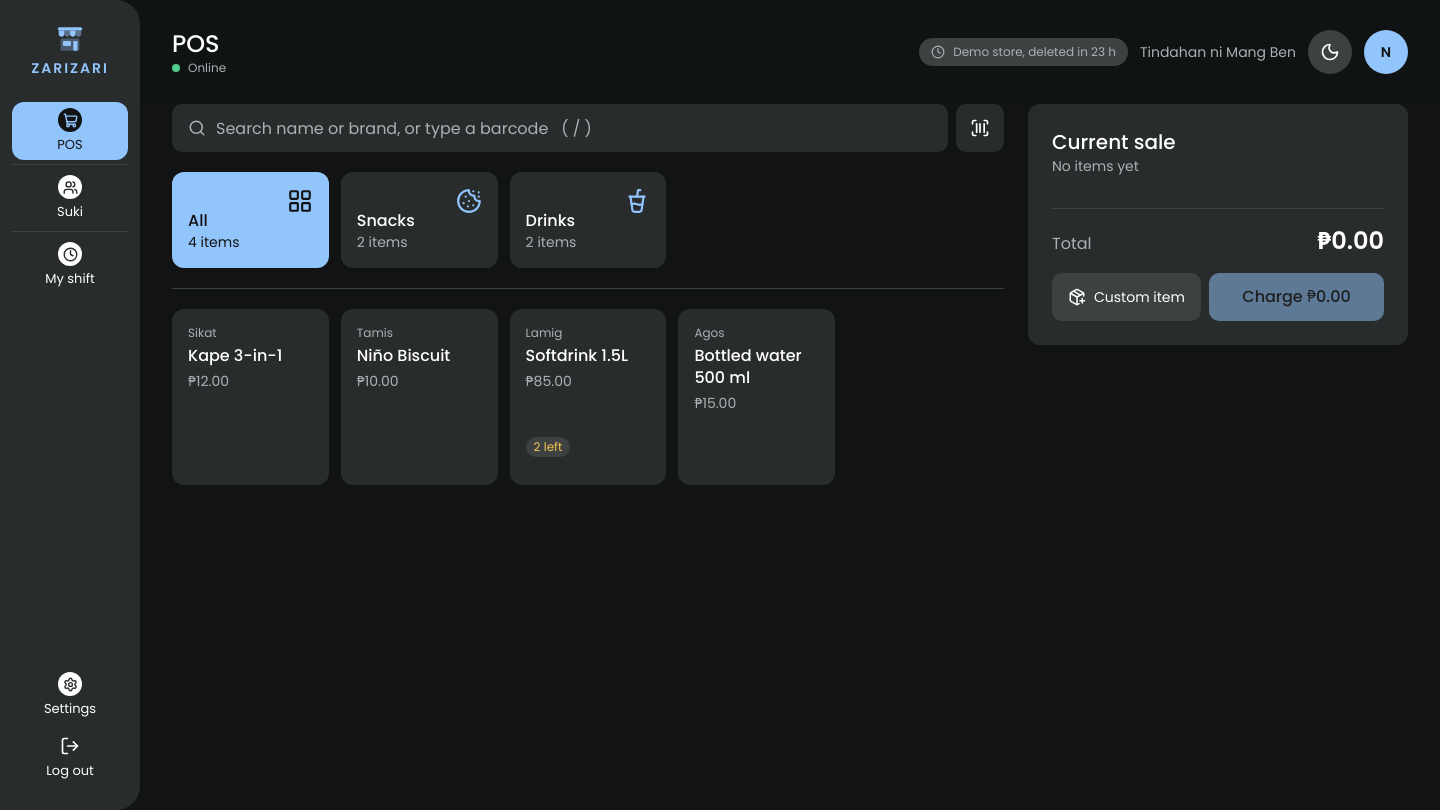
it: POS screen (spec 10) › warns when a line goes above the recorded stock (spec 6.3)
Check: the button named "Add Kape 3-in-1" is shown, box [184,321,317,417]
Click the button named "Add Softdrink 1.5L" at (588, 369), box [522,321,654,417]
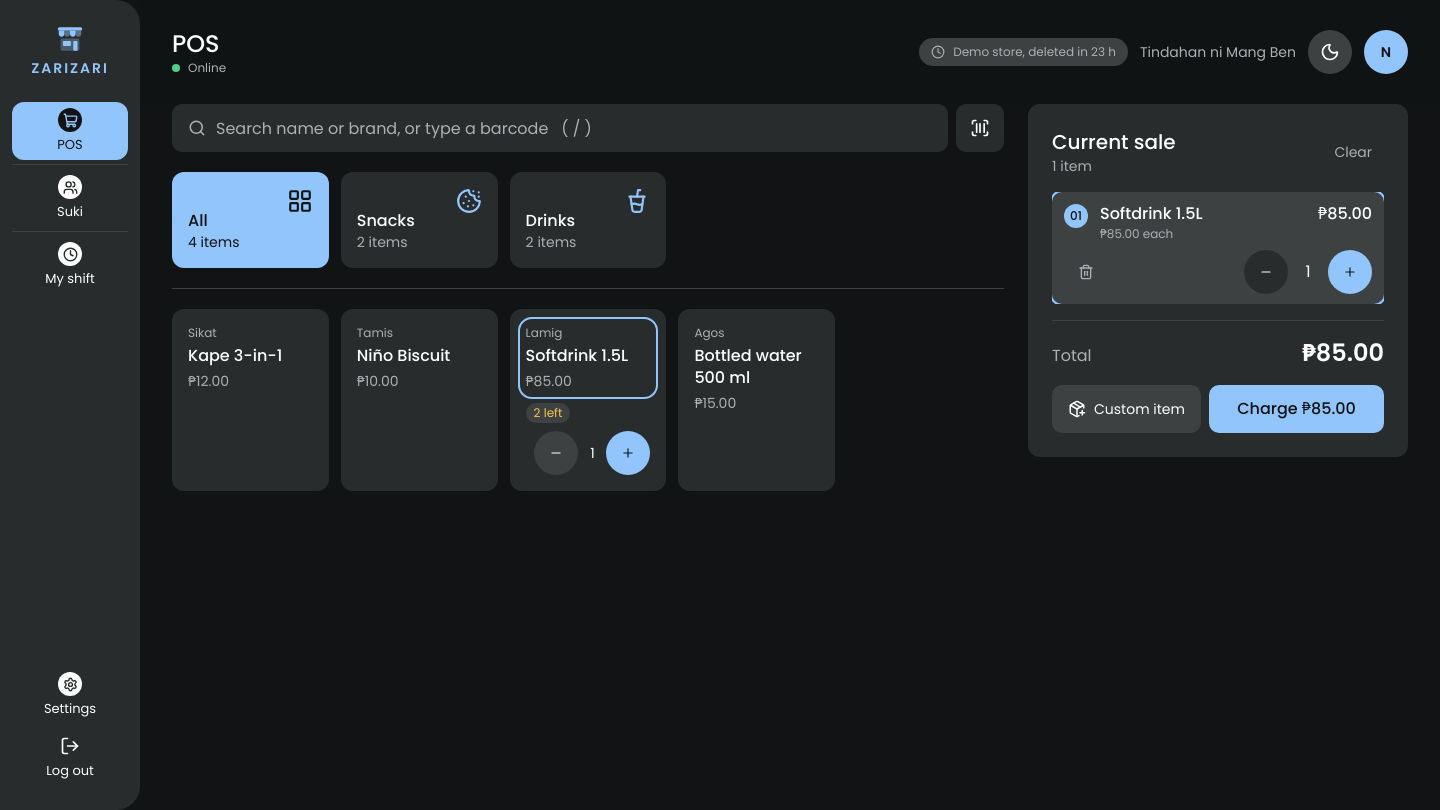
Click the button named "Add Softdrink 1.5L" at (588, 358), box [522,321,654,395]
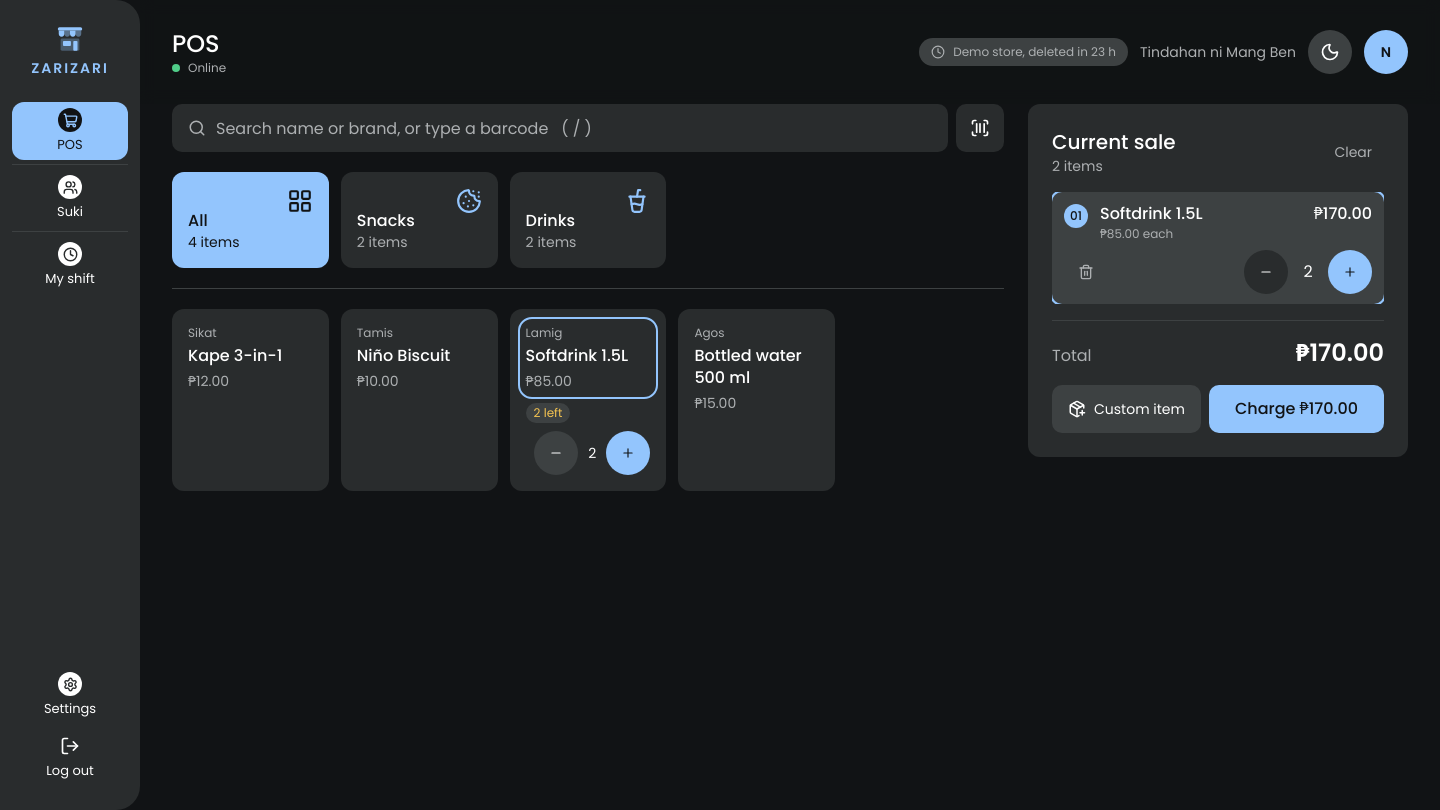
Click the button named "Add Softdrink 1.5L" at (588, 358), box [522,321,654,395]
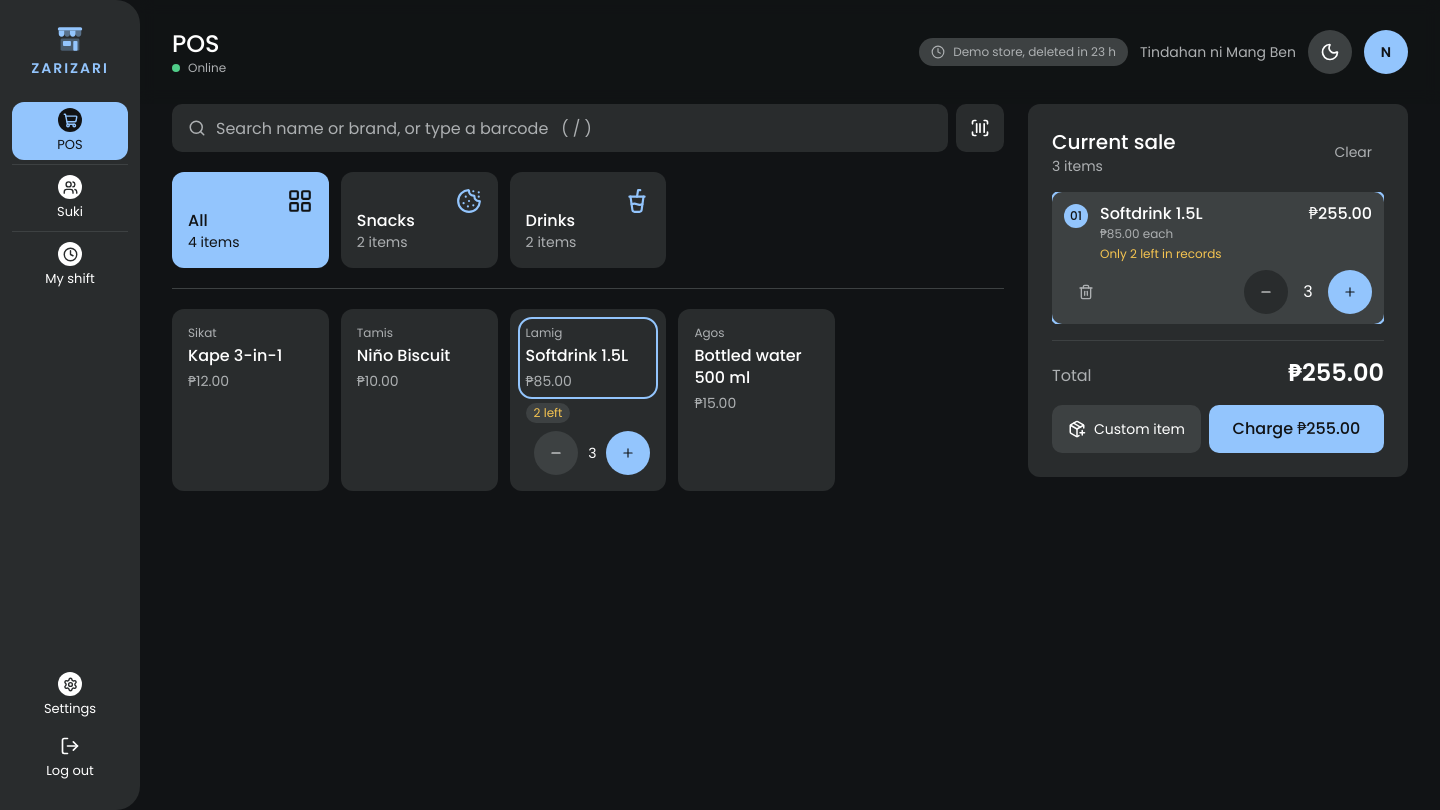
Check: the text "Only 2 left in records" is shown, box [1100,245,1222,262]
